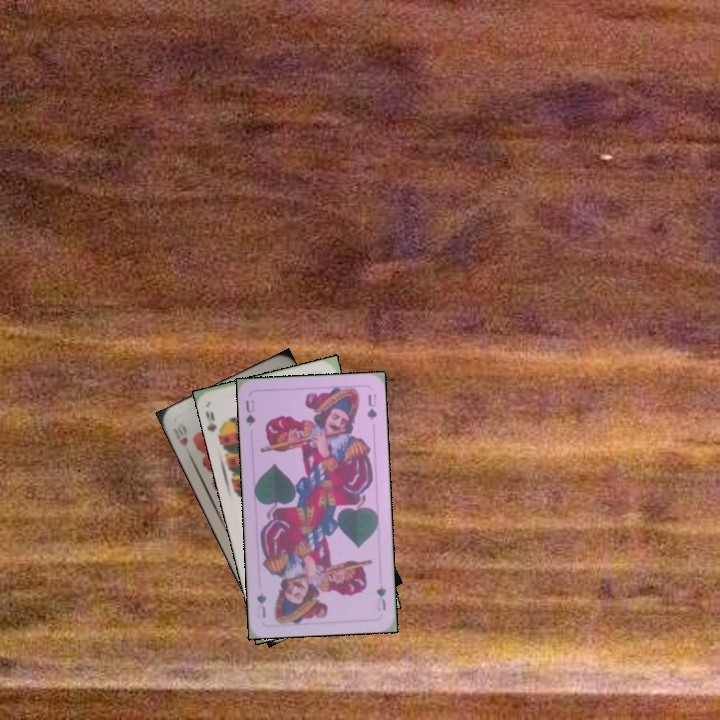GU: (241, 396, 258, 428), (373, 581, 389, 614)
H10: (168, 423, 190, 449)
S9: (201, 407, 227, 442)
